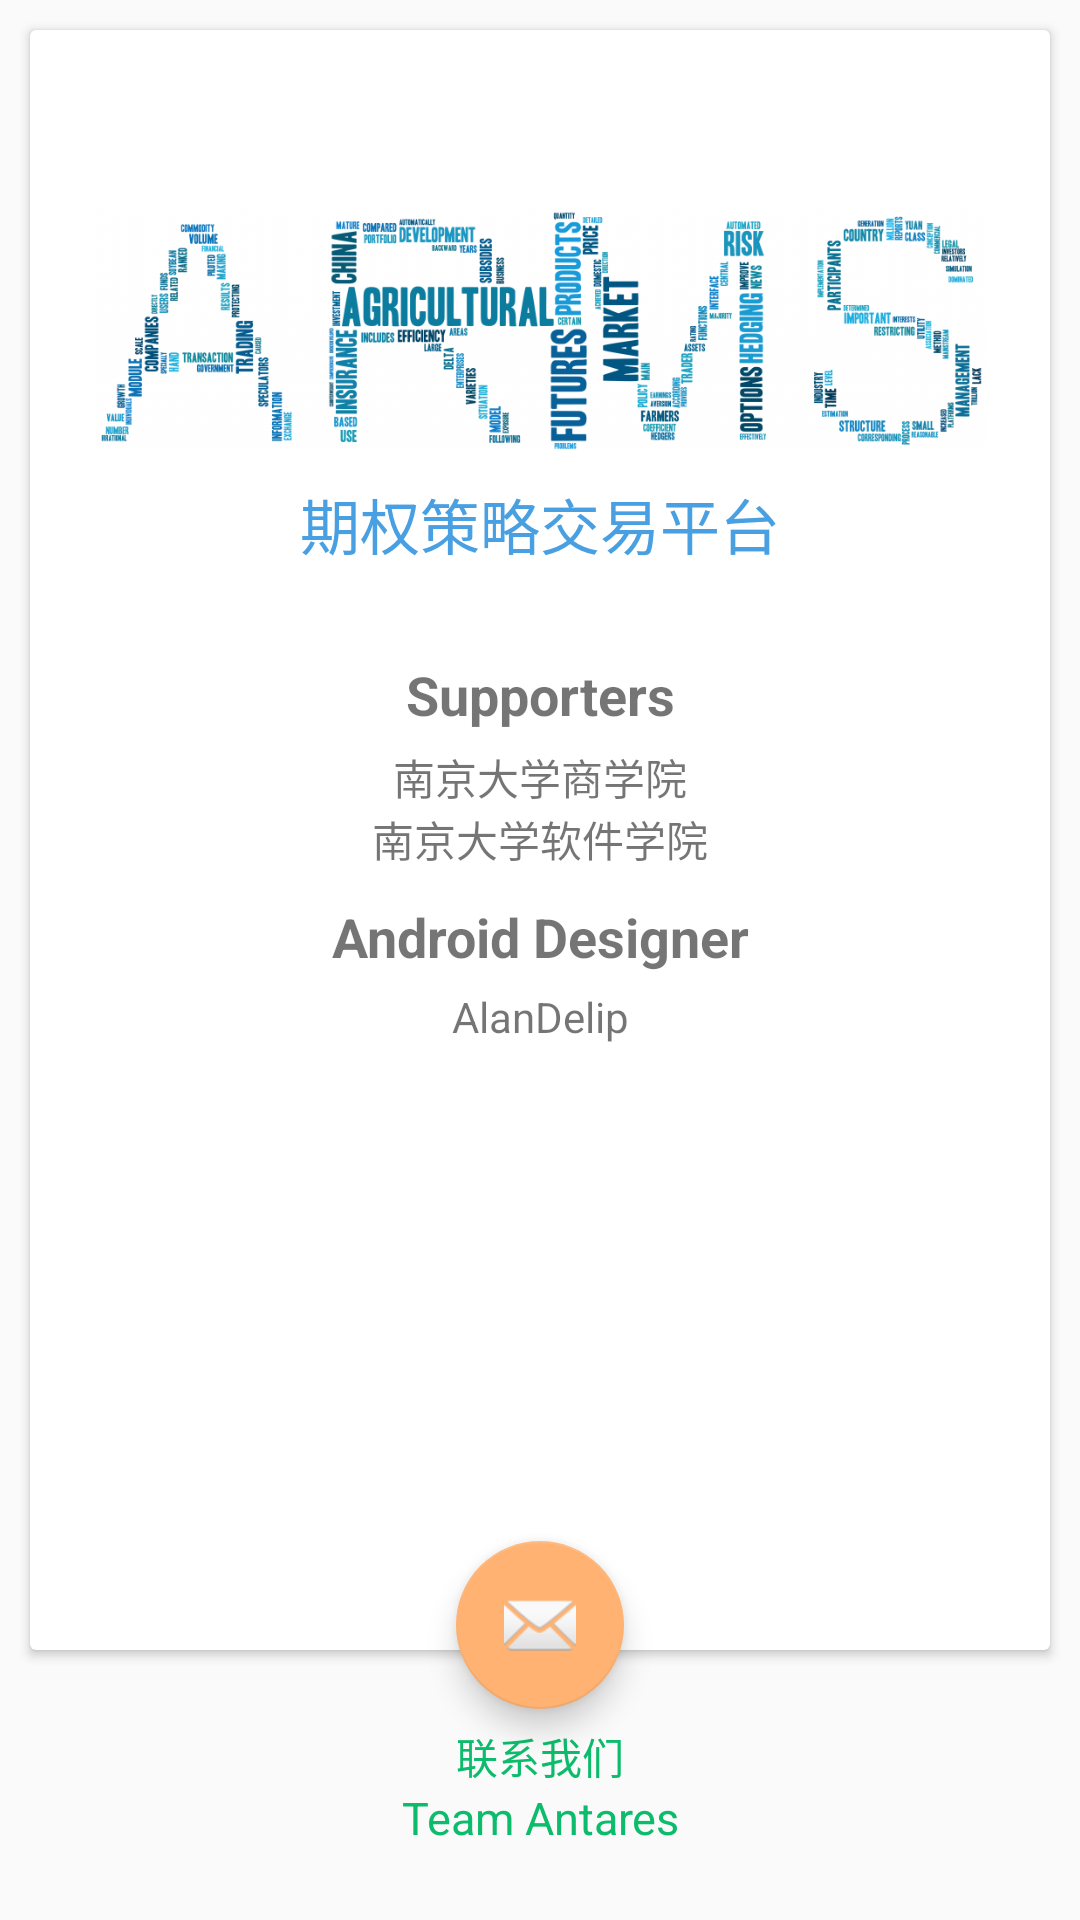

Named icons in this screenshot (1080px×1920px) and their bounding boxes, (x1, y1, x2, y2):
email: (456, 1541, 624, 1709)
